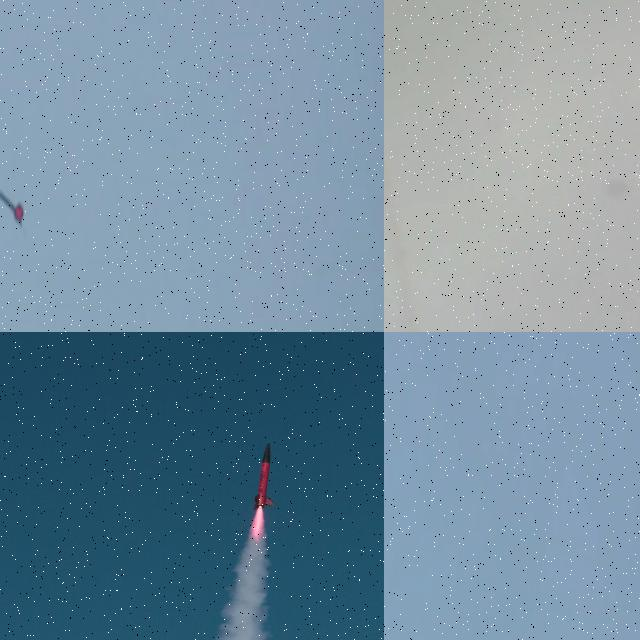Rocket: (252, 441, 274, 510), (0, 188, 23, 221)
